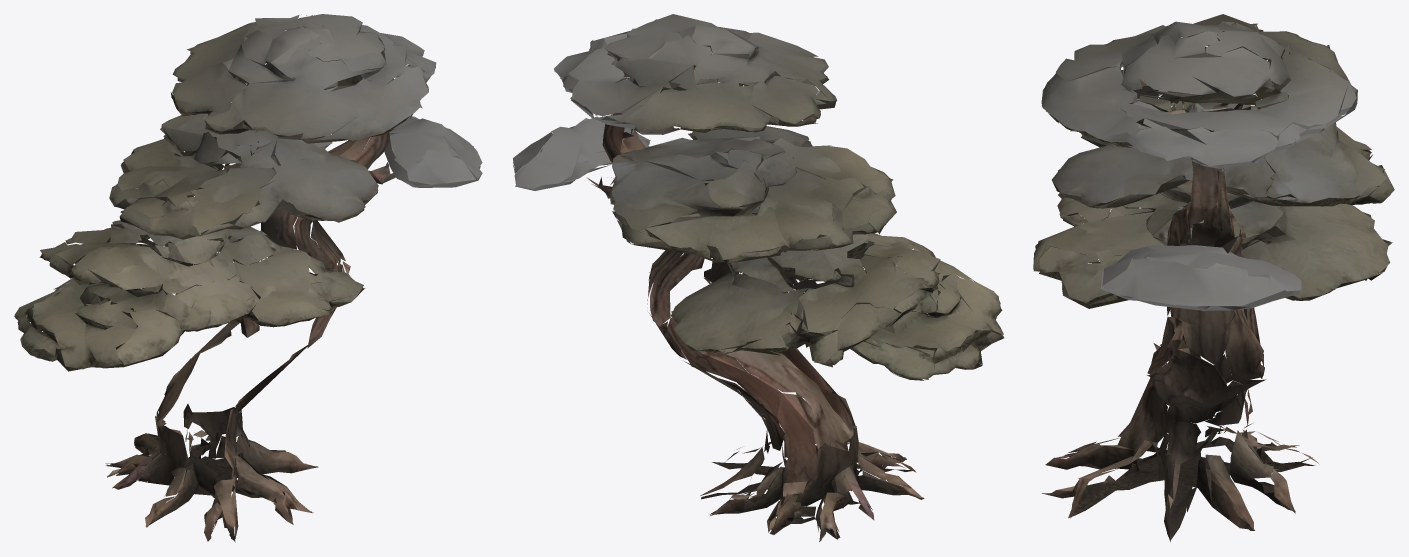
File: pine_tree.glb
The picture shows the model from 3 angles, left to right: view 1: azimuth 30°, elevation 25°; view 2: azimuth 150°, elevation 25°; view 3: azimuth 270°, elevation 25°; orthographic projection. The views are drawn at different scales.
Visible parts, largest first — view 1: Prop_pine_tree; view 2: Prop_pine_tree; view 3: Prop_pine_tree.
Part boxes in pixels (x1,y1,x2,y2): Prop_pine_tree: [14, 14, 482, 542]; Prop_pine_tree: [513, 14, 1004, 541]; Prop_pine_tree: [1033, 14, 1394, 541].
Bounding box in the file's own units: 4.77 × 4.49 × 2.85.
Materials: 1 (1 with a texture image).
